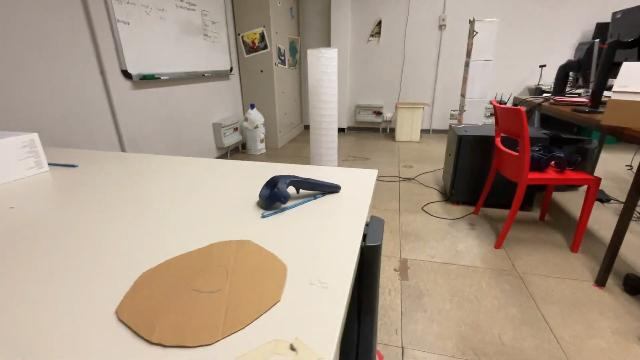Chair: (470, 98, 604, 256)
Lamp: (304, 44, 342, 168)
